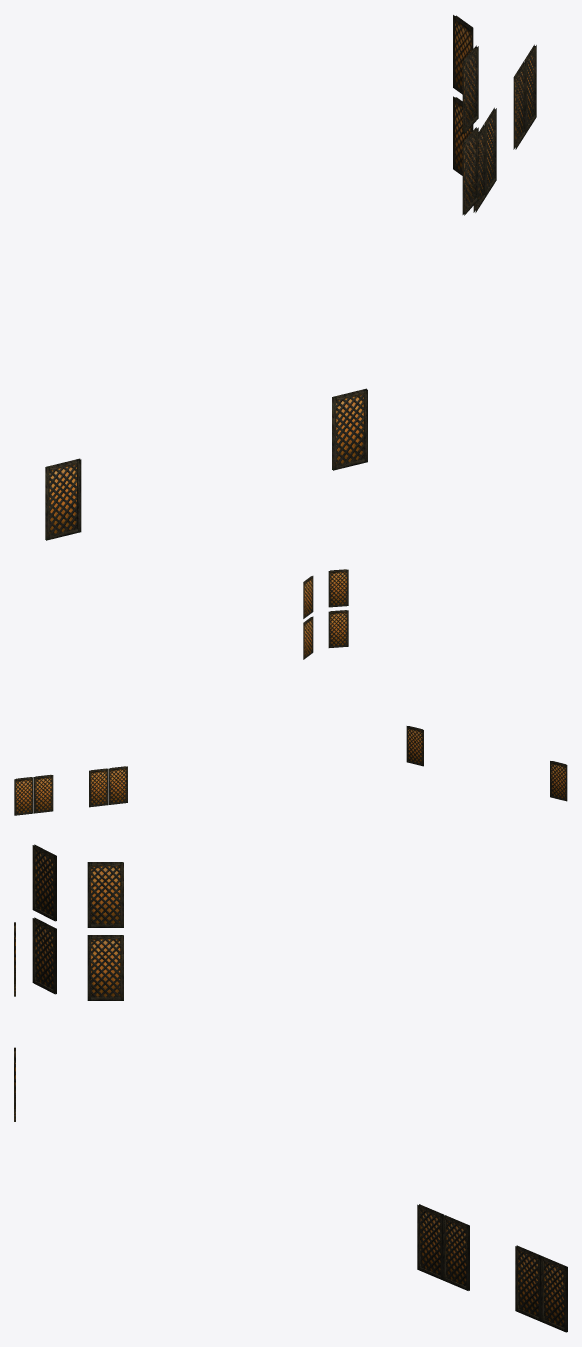
Rendered from LAKETOWN_EXTERIOR_PS_LT_WINDOW_LONG_LOD1_63.fbx.
The picture shows the model from 3 angles, top to bottom: view 1: azimuth 30°, elevation 25°; view 2: azimuth 150°, elevation 25°; view 3: azimuth 270°, elevation 25°; orthographic projection. The views are drawn at different scales.
Visible parts, largest first — view 1: LAKETOWN_EXTERIOR_PS_LT_WINDOW_LONG_LOD1_63; view 2: LAKETOWN_EXTERIOR_PS_LT_WINDOW_LONG_LOD1_63; view 3: LAKETOWN_EXTERIOR_PS_LT_WINDOW_LONG_LOD1_63.
Boxes of the visible parts, x1,y1,x2,y2 form: LAKETOWN_EXTERIOR_PS_LT_WINDOW_LONG_LOD1_63: (45,15,536,540); LAKETOWN_EXTERIOR_PS_LT_WINDOW_LONG_LOD1_63: (14,569,567,815); LAKETOWN_EXTERIOR_PS_LT_WINDOW_LONG_LOD1_63: (14,844,567,1332).
Size of the model in its own units: 169971 by 74613 by 113991.
2 materials, 2 textured.
